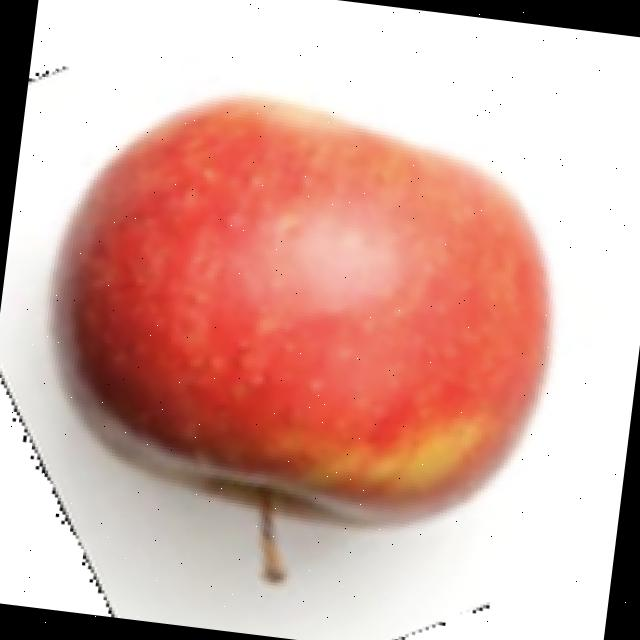apple: (21, 84, 561, 600)
